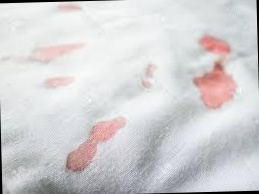blood: (194, 65, 235, 110), (92, 118, 126, 141), (67, 145, 95, 169), (200, 35, 229, 54)
